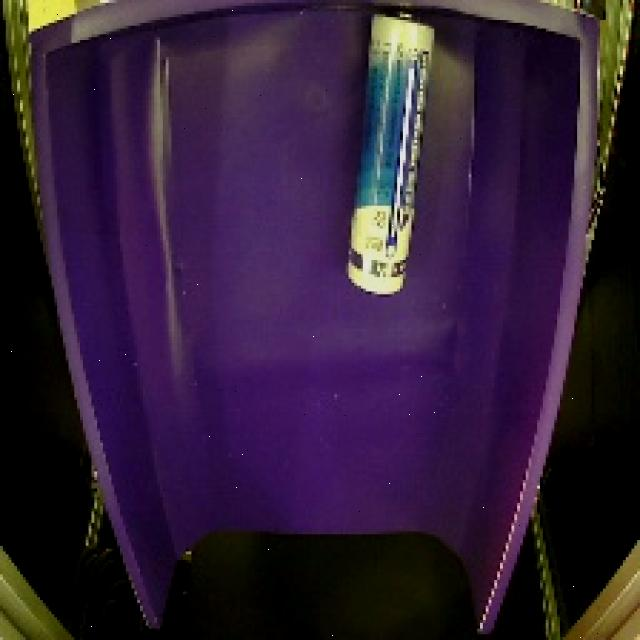battery: (337, 8, 442, 310)
